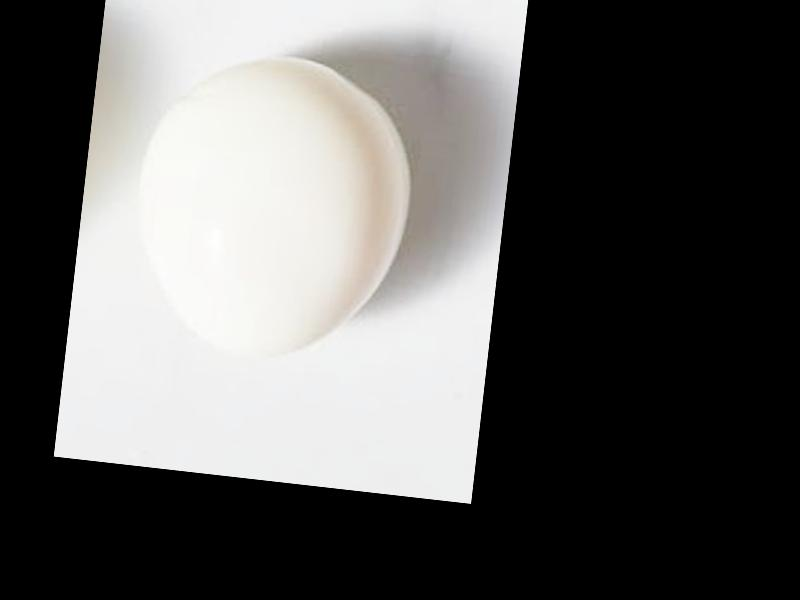Eggs: (122, 41, 423, 369)
